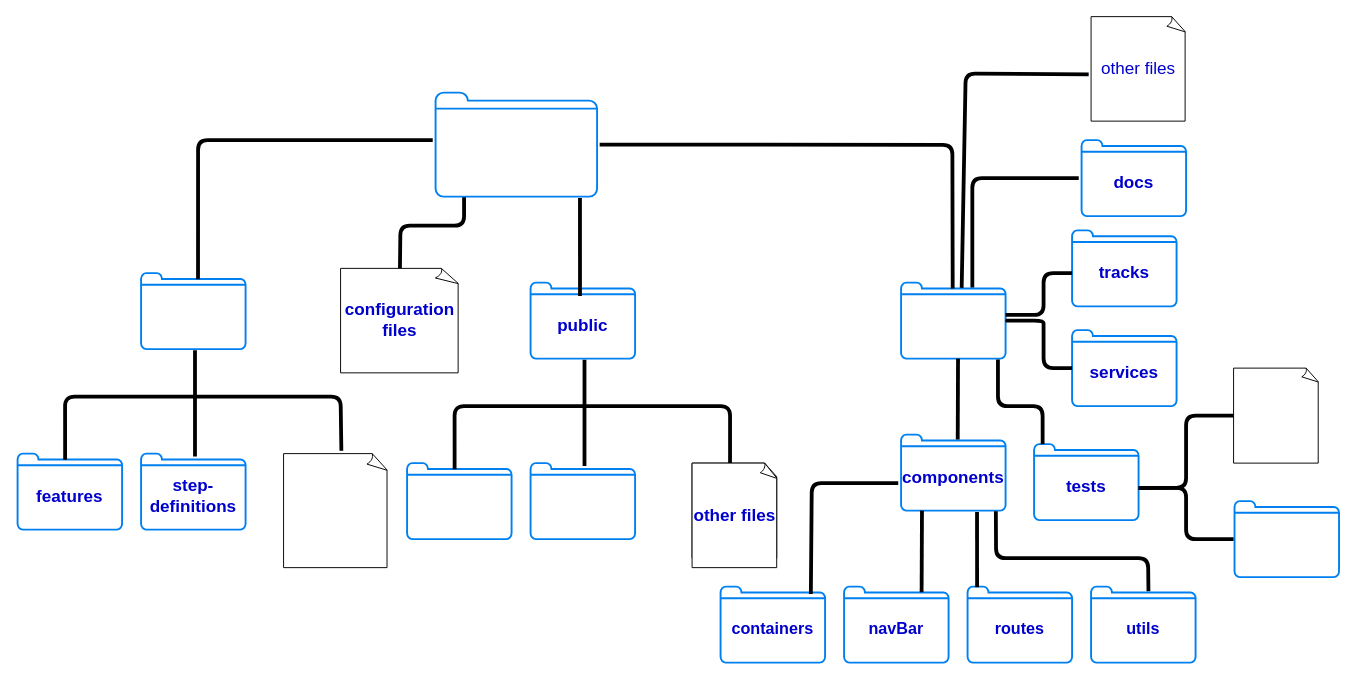
Image size: 1356x680. Some labels were removed from this diagram. Each missing label, with the centre of its shape:
*.test.js files: the point at 1276,415
e2e: the point at 193,311
img: the point at 459,501
jest.config.js: the point at 335,510
locales: the point at 582,501
mocks: the point at 1286,539
src: the point at 953,320
Viade_es1c: the point at 516,144
